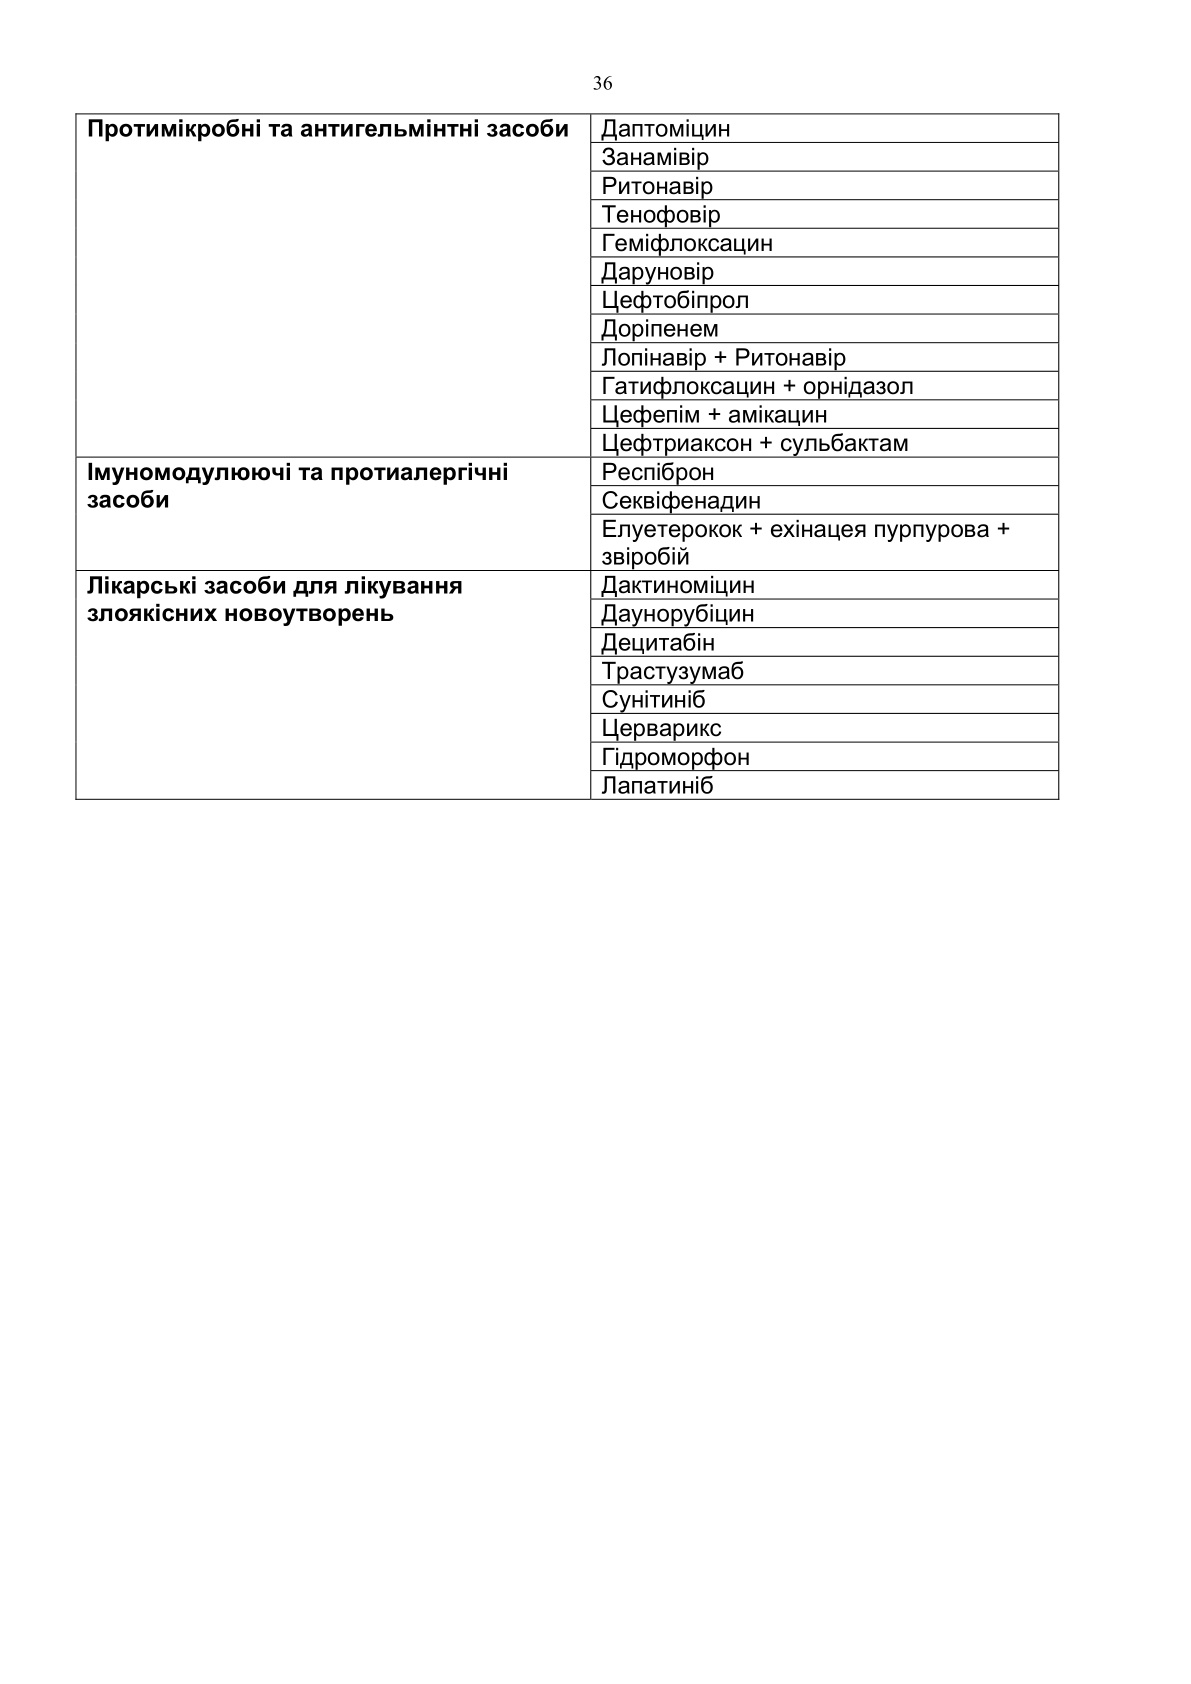merged_cells: (73, 113, 1061, 800)
